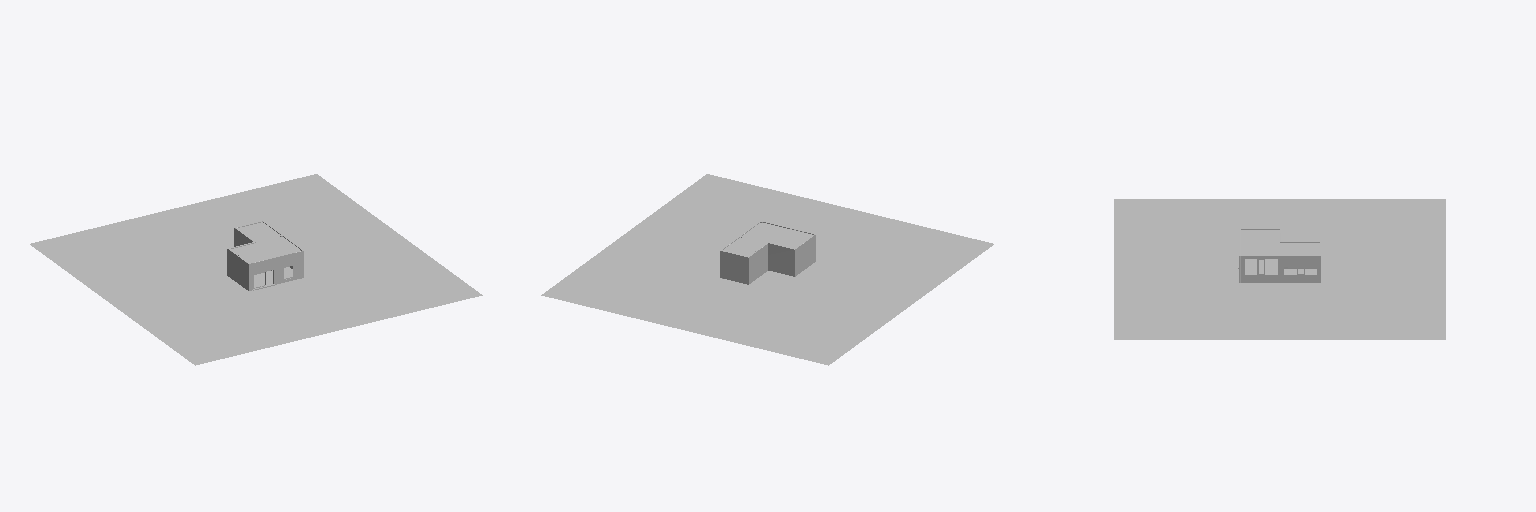
Rendered from roomv2.obj.
3 renders of one model, left to right at view 1: azimuth 30°, elevation 25°; view 2: azimuth 150°, elevation 25°; view 3: azimuth 270°, elevation 25°, orthographic.
Parts seen in each view (by area): view 1: Plane.014_Plane.015, Plane.007_Plane.005, Plane.003_Plane.001, Plane; view 2: Plane.014_Plane.015, Plane, Plane.007_Plane.005, Plane.004_Plane.002; view 3: Plane.014_Plane.015, Plane.007_Plane.005, Plane.002_Plane.024, Plane.001_Plane.022.
Boxes of the visible parts, x1,y1,x2,y2 form: Plane.014_Plane.015: [30, 174, 482, 365]; Plane.007_Plane.005: [230, 221, 300, 262]; Plane.003_Plane.001: [248, 250, 303, 290]; Plane: [227, 228, 254, 289]; Plane.014_Plane.015: [541, 174, 993, 365]; Plane: [749, 234, 815, 283]; Plane.007_Plane.005: [722, 222, 813, 256]; Plane.004_Plane.002: [720, 250, 748, 284]; Plane.014_Plane.015: [1114, 199, 1445, 339]; Plane.007_Plane.005: [1241, 229, 1319, 254]; Plane.002_Plane.024: [1241, 255, 1319, 282]; Plane.001_Plane.022: [1245, 259, 1316, 273].
Size of the model in its own units: 41.94 by 3.82 by 41.94.